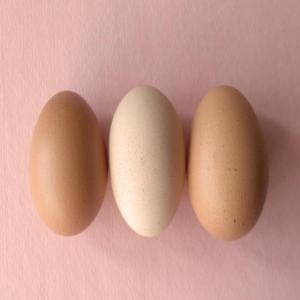Egg: (104, 64, 192, 260), (186, 74, 272, 268), (26, 76, 110, 242)
